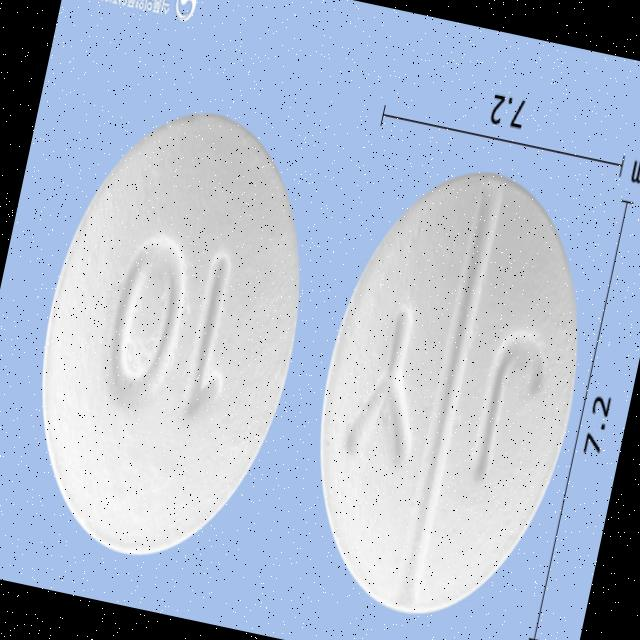Durova - 20mg: (278, 147, 616, 640), (2, 90, 336, 579)
